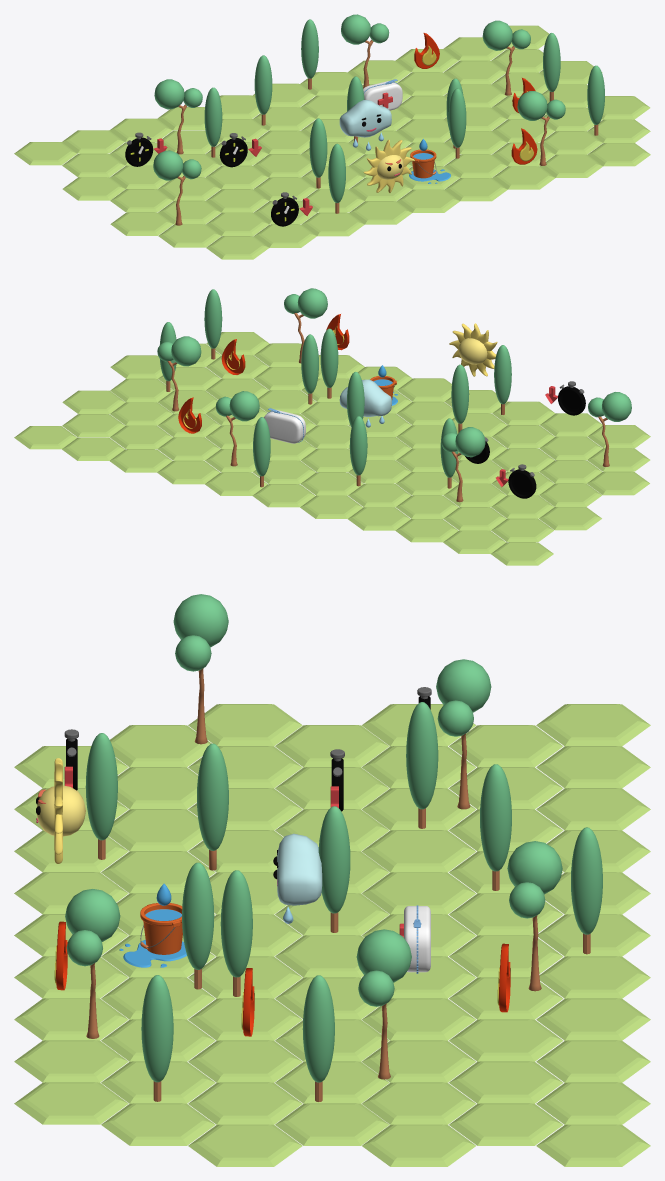
The model's file is scena4.gltf.
The picture shows the model from 3 angles, top to bottom: view 1: azimuth 30°, elevation 25°; view 2: azimuth 150°, elevation 25°; view 3: azimuth 270°, elevation 25°; orthographic projection. The views are drawn at different scales.
Parts seen in each view (by area): view 1: Clyde, Sunnie, Bonsai.001, Bonsai.003, Bonsai, Bonsai.002, Bonsai.004, Polje_6_0, Polje_1_2, Polje_6_8, Polje_4_0, Polje_1_6 (+81 smaller); view 2: Sunnie, Bonsai.004, Bonsai.003, Bonsai, Bonsai.001, Polje_7_7, Polje_3_0, Polje_6_3, Polje_4_9, Bonsai.002, Polje_3_1, Polje_5_9 (+79 smaller); view 3: Polje_6_9, Polje_3_10, Polje_5_9, Polje_6_7, Polje_6_8, Polje_7_7, Polje_7_10, Polje_4_9, Polje_2_9, Polje_3_9, Polje_7_8, Polje_1_7 (+79 smaller).
Part boxes in pixels (box(x1,y1,x2,y2)): Clyde: box(339, 100, 391, 150); Sunnie: box(363, 139, 414, 192); Bonsai.001: box(153, 150, 201, 225); Bonsai.003: box(482, 20, 530, 95); Bonsai: box(154, 79, 202, 154); Bonsai.002: box(517, 91, 565, 165); Bonsai.004: box(341, 14, 389, 88); Polje_6_0: box(62, 153, 125, 177); Polje_1_2: box(301, 212, 364, 236); Polje_6_8: box(443, 60, 505, 84); Polje_4_0: box(110, 189, 173, 212); Polje_1_6: box(492, 166, 555, 189); Sunnie: box(449, 323, 497, 376); Bonsai.004: box(215, 391, 259, 466); Bonsai.003: box(157, 336, 201, 411); Bonsai: box(441, 427, 485, 502); Bonsai.001: box(588, 392, 631, 466); Polje_7_7: box(157, 460, 220, 484); Polje_3_0: box(587, 471, 649, 495); Polje_6_3: box(348, 483, 411, 507); Polje_4_9: box(110, 378, 173, 402); Bonsai.002: box(284, 288, 327, 363); Polje_3_1: box(539, 460, 602, 483); Polje_5_9: box(110, 402, 172, 425); Polje_6_9: box(449, 1103, 563, 1145); Polje_3_10: box(188, 1124, 302, 1166); Polje_5_9: box(362, 1082, 475, 1124); Polje_6_7: box(449, 1019, 563, 1061); Polje_6_8: box(449, 1061, 563, 1103); Polje_7_7: box(536, 998, 650, 1040); Polje_7_10: box(536, 1124, 650, 1166); Polje_4_9: box(275, 1103, 389, 1145); Polje_2_9: box(101, 1103, 215, 1145); Polje_3_9: box(188, 1082, 302, 1124); Polje_7_8: box(536, 1040, 650, 1082); Polje_1_7: box(14, 1040, 128, 1082).
Bounding box in the file's own units: 19.05 × 2.71 × 11.09.
26 materials, 26 textured.
